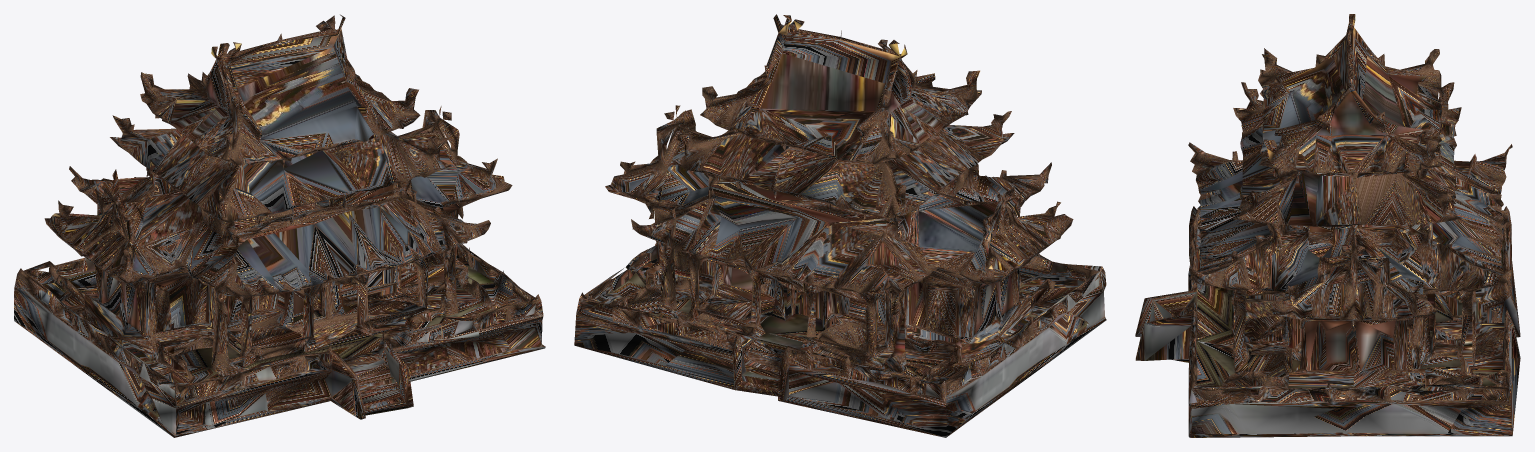
File: bq_alchemy_hall.lod.glb
The picture shows the model from 3 angles, left to right: view 1: azimuth 30°, elevation 25°; view 2: azimuth 150°, elevation 25°; view 3: azimuth 270°, elevation 25°; orthographic projection.
Visible parts, largest first — view 1: Mesh_0; view 2: Mesh_0; view 3: Mesh_0.
Boxes of the visible parts, x1,y1,x2,y2 form: Mesh_0: (14,14,545,437); Mesh_0: (574,14,1106,437); Mesh_0: (1135,14,1520,437).
Size of the model in its own units: 1.9 by 1.43 by 1.64.
1 material, 1 textured.
